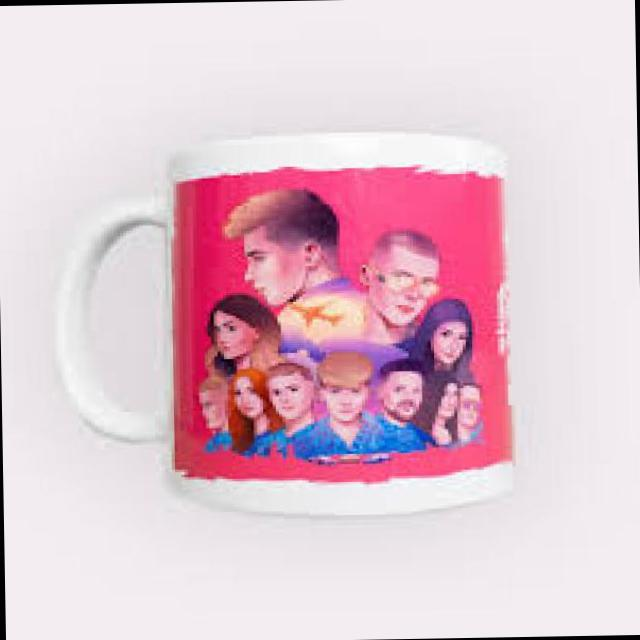Coffee Mug: (56, 134, 517, 514)
